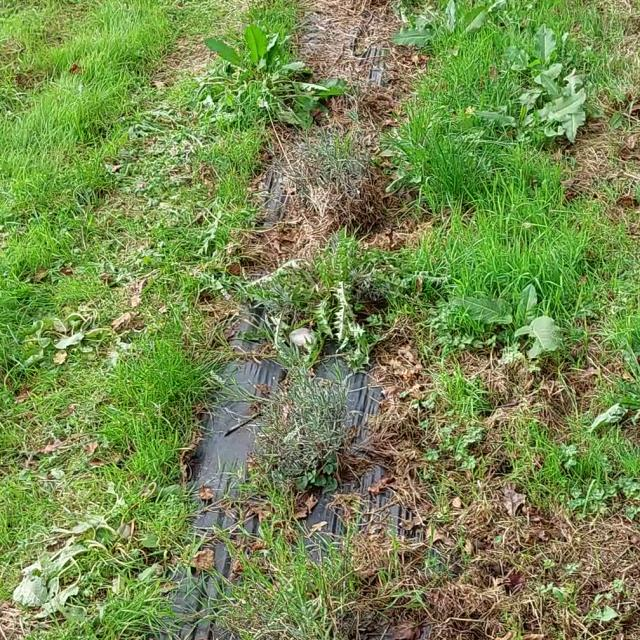organic waste: (7, 515, 190, 633), (188, 14, 329, 136), (375, 0, 502, 95), (483, 62, 611, 155), (41, 286, 141, 389), (473, 277, 578, 362), (514, 24, 580, 92)
